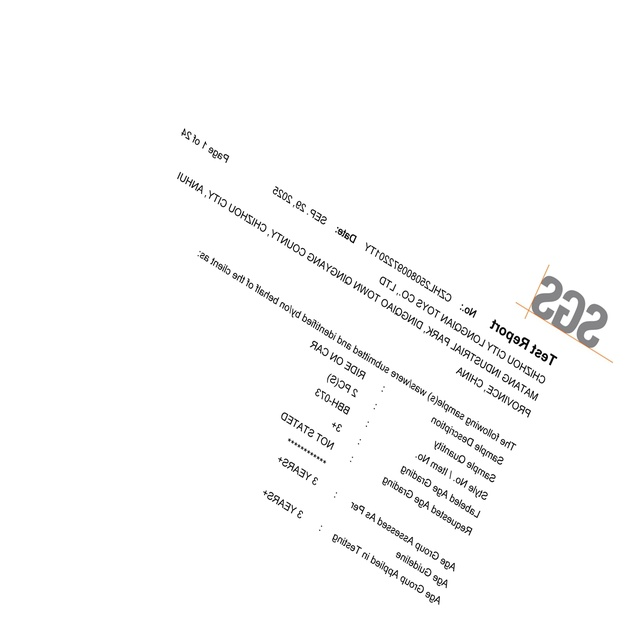sgs: (531, 276, 608, 348)
